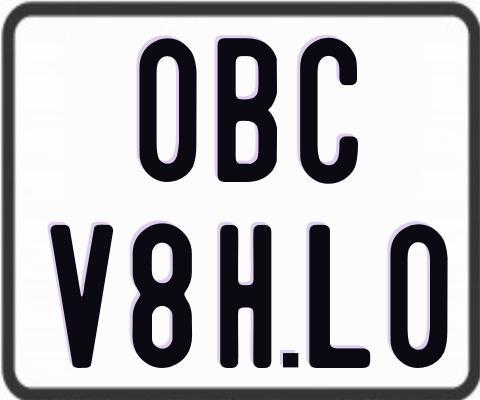0: (389, 221, 453, 366), (139, 37, 202, 181)
8: (131, 222, 191, 373)
B: (216, 36, 281, 183)
C: (298, 35, 356, 186)
H: (218, 225, 270, 374)
L: (309, 225, 375, 374)
V: (49, 224, 115, 370)
